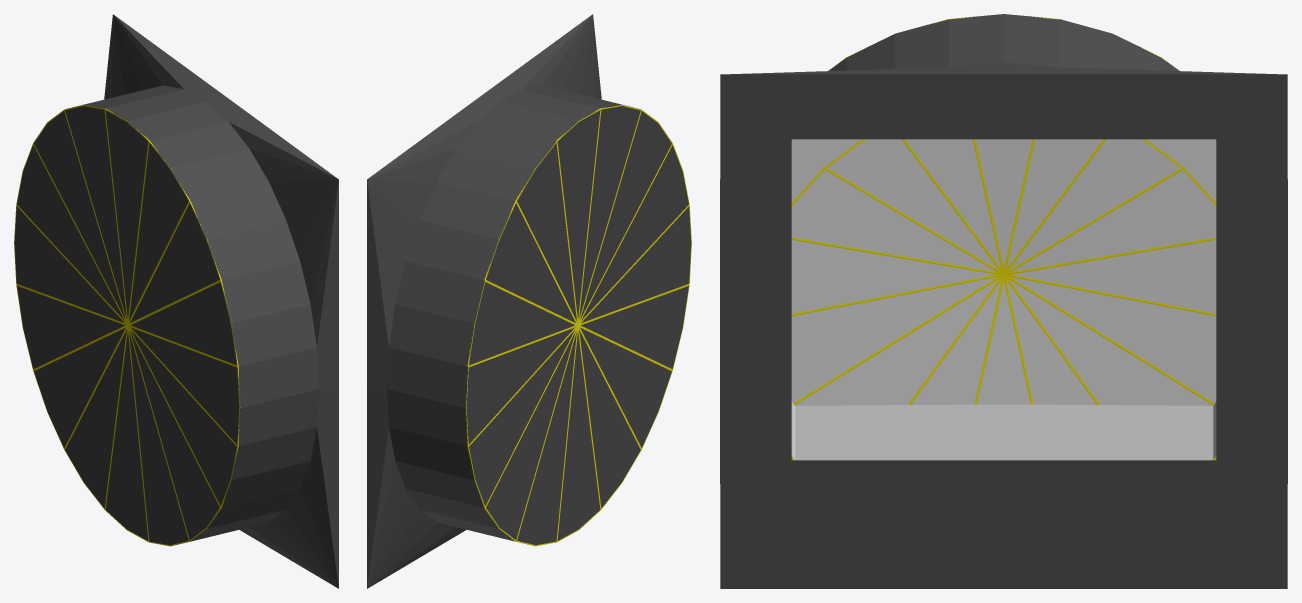
File: DockingRingv2.fbx
The picture shows the model from 3 angles, left to right: view 1: azimuth 30°, elevation 25°; view 2: azimuth 150°, elevation 25°; view 3: azimuth 270°, elevation 25°; orthographic projection. The views are drawn at different scales.
Parts seen in each view (by area): view 1: Docking Ring P1, Ring Squarer, Circle.001, Circle.016, Circle.009, Circle.011, Circle.002, Circle.010, Circle.003, Circle.008, Circle.004, Circle.012 (+6 smaller); view 2: Docking Ring P1, Ring Squarer, Circle.001, Circle.002, Circle.009, Circle.007, Circle.016, Circle.008, Circle.015, Circle.010, Circle.014, Circle.006 (+6 smaller); view 3: Ring Squarer, Docking Ring P1, Circle.012, Circle.006, Circle.014, Circle.004, Circle.005, Circle.013, Circle.007, Circle.011, Circle.015, Circle.003 (+7 smaller).
Part boxes in pixels (box(x1,y1,x2,y2)): Docking Ring P1: box(68, 85, 319, 546); Ring Squarer: box(104, 14, 338, 588); Circle.001: box(105, 108, 149, 323); Circle.016: box(128, 141, 190, 324); Circle.009: box(105, 326, 148, 542); Circle.011: box(128, 326, 221, 541); Circle.002: box(64, 104, 127, 324); Circle.010: box(128, 326, 189, 546); Circle.003: box(33, 110, 127, 324); Circle.008: box(64, 326, 127, 509); Circle.004: box(16, 143, 127, 324); Circle.012: box(128, 326, 238, 507); Docking Ring P1: box(386, 85, 637, 546); Ring Squarer: box(367, 14, 601, 588); Circle.001: box(556, 108, 600, 323); Circle.002: box(515, 141, 577, 324); Circle.009: box(557, 326, 600, 542); Circle.007: box(484, 326, 577, 541); Circle.016: box(578, 104, 641, 324); Circle.008: box(516, 326, 577, 546); Circle.015: box(578, 110, 672, 324); Circle.010: box(578, 326, 641, 509); Circle.014: box(578, 143, 689, 324); Circle.006: box(467, 326, 577, 507); Ring Squarer: box(720, 62, 1287, 588); Docking Ring P1: box(795, 14, 1212, 460); Circle.012: box(791, 274, 1003, 404); Circle.006: box(1004, 274, 1216, 404); Circle.014: box(791, 169, 1003, 274); Circle.004: box(1004, 169, 1216, 274); Circle.005: box(1005, 238, 1216, 314); Circle.013: box(791, 238, 1002, 314); Circle.007: box(1004, 275, 1213, 405); Circle.011: box(794, 275, 1003, 405); Circle.015: box(826, 58, 1003, 274); Circle.003: box(1004, 58, 1181, 274).
Size of the model in its own units: 101 by 400 by 400.
